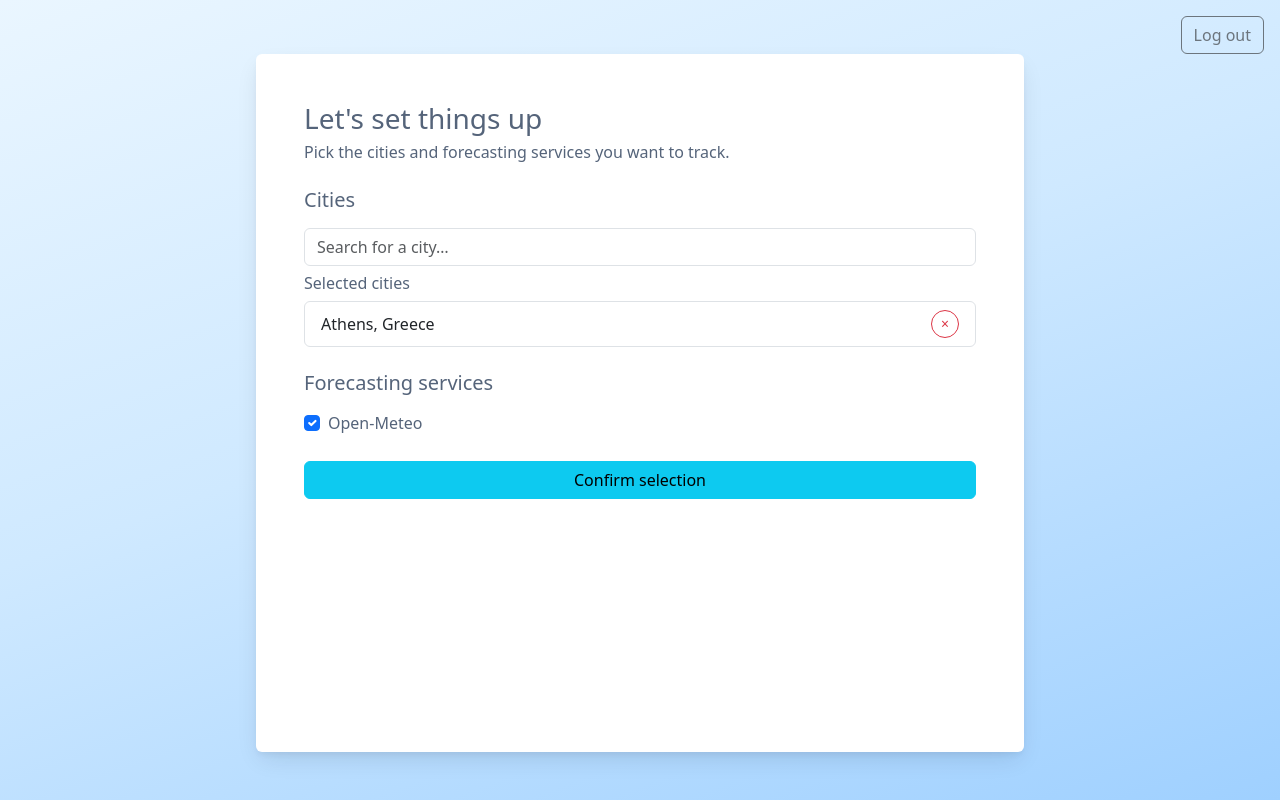
it: SetupPage - confirm (UC4 + UC5) › shows an error and does not navigate when saving fails
The image size is (1280, 800).
Expected: the text "Athens, Greece" is shown, [321, 312, 435, 336]
Click the button "Confirm selection": click(640, 480) [304, 461, 976, 499]
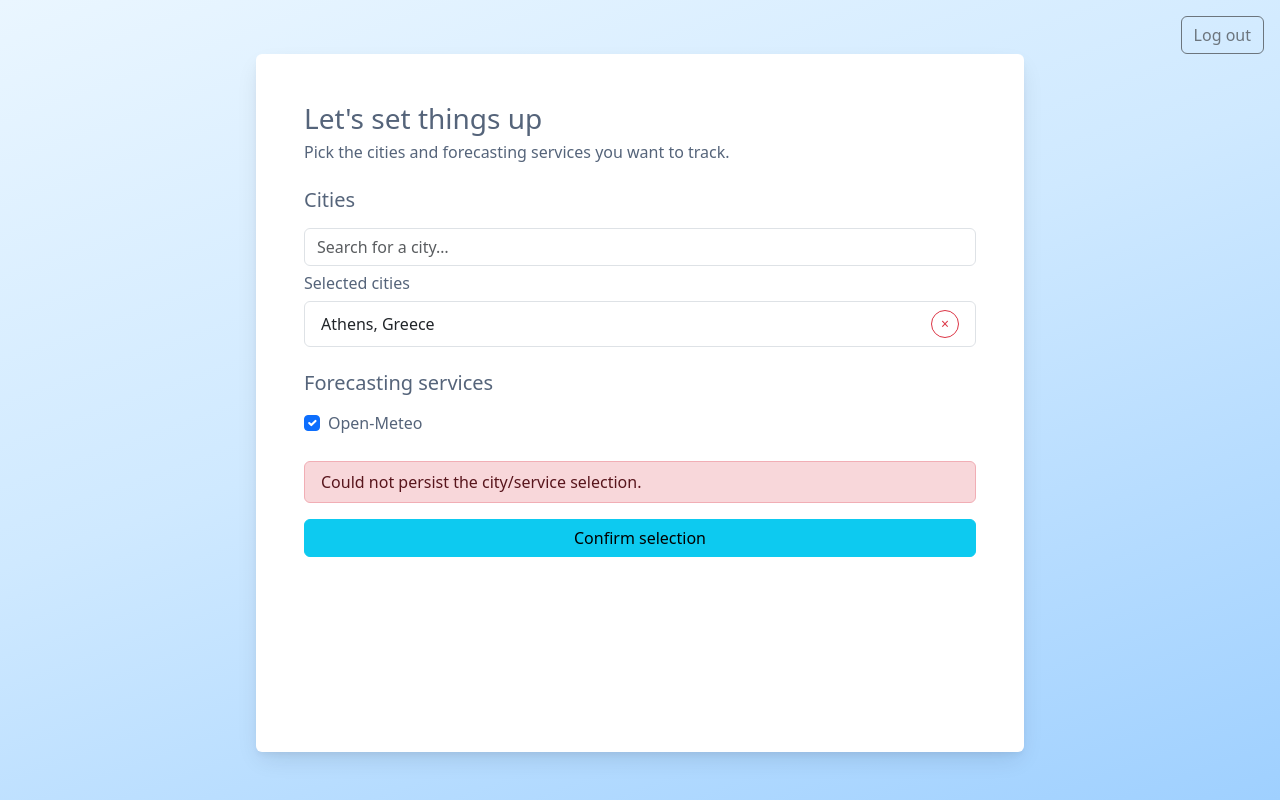
Result: the text "Could not persist the city/service selection." is shown at [304, 461, 976, 503]
